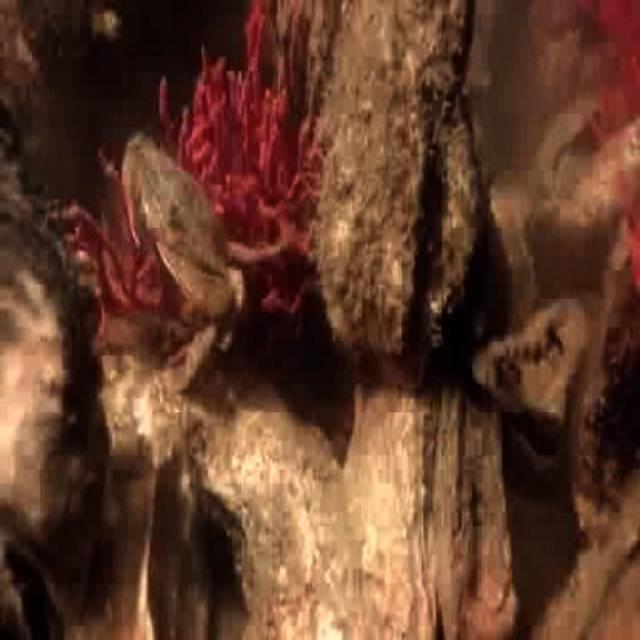Oyster-Closed: (0, 174, 107, 606), (0, 93, 27, 168)
Oyster-Open: (321, 0, 480, 396), (0, 534, 64, 638)
